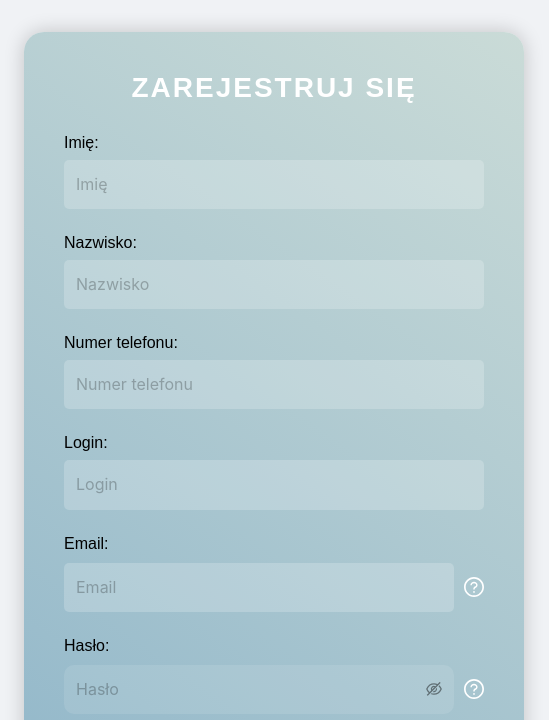
Test: Register Component › displays an error when the email format is incorrect
This screenshot has width=549, height=720.
Type "Jan" into the field labelled "Imię:".
click(274, 185); type("Jan")  # box [64,160,484,209]
Type "Kowalski" into the field labelled "Nazwisko:".
click(274, 285); type("Kowalski")  # box [64,260,484,309]
Type "123456789" into the field labelled "Numer telefonu:".
click(274, 385); type("123456789")  # box [64,360,484,409]
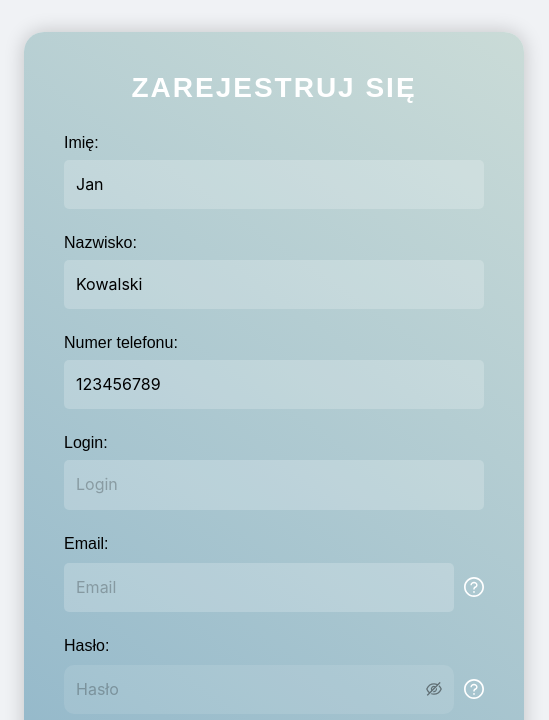
Type "jkowalski" into the field labelled "Login:".
click(274, 485); type("jkowalski")  # box [64,460,484,510]
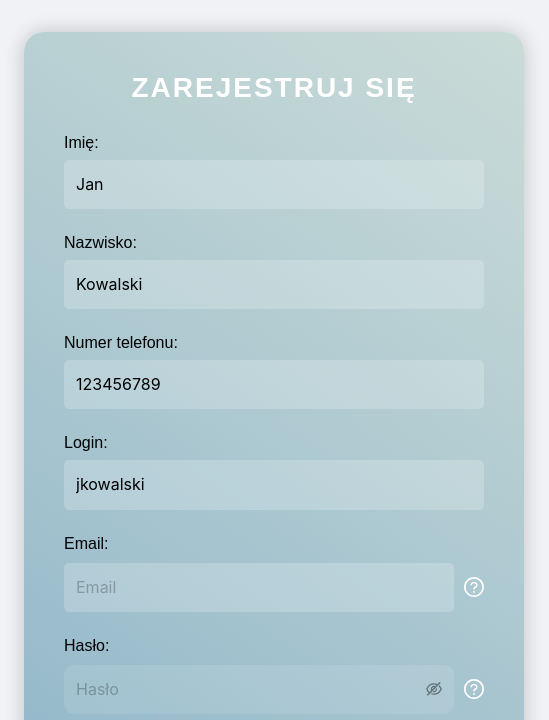
Type "invalidemail" into the field labelled "Email:".
click(259, 587); type("invalidemail")  # box [64,563,454,612]
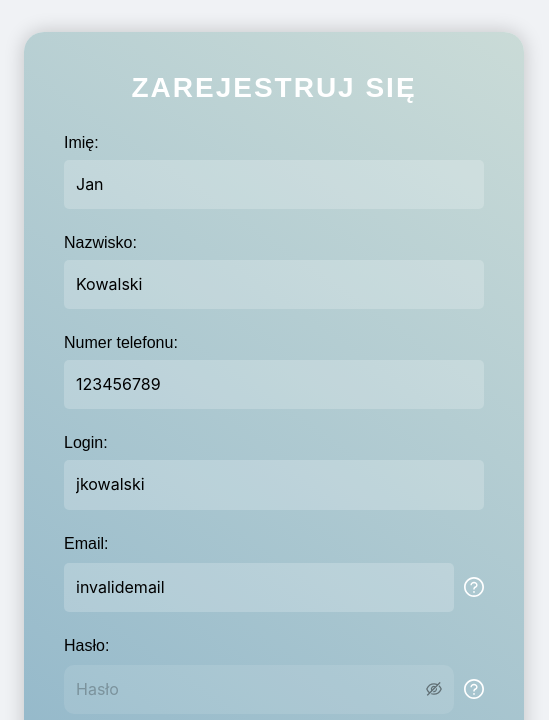
Type "Password123!" into the password field labelled "Hasło:".
click(249, 689); type("Password123!")  # box [76,677,422,702]
(page scrolled)
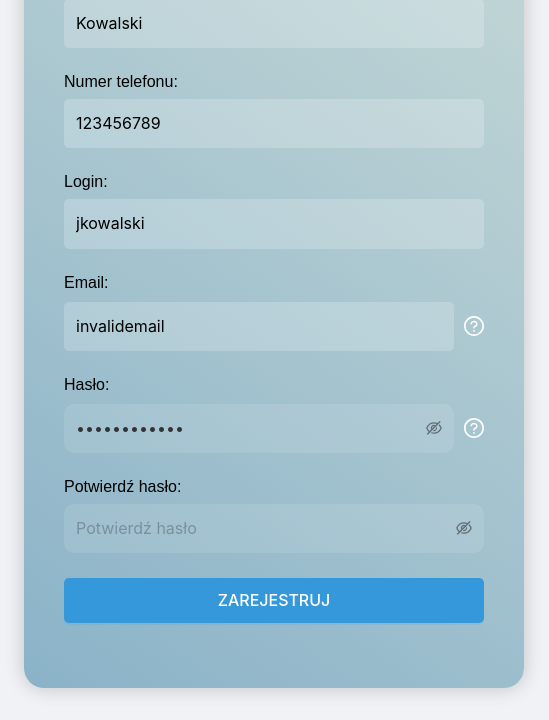
Type "Password123!" into the password field labelled "Potwierdź hasło:".
click(264, 528); type("Password123!")  # box [76,516,452,541]
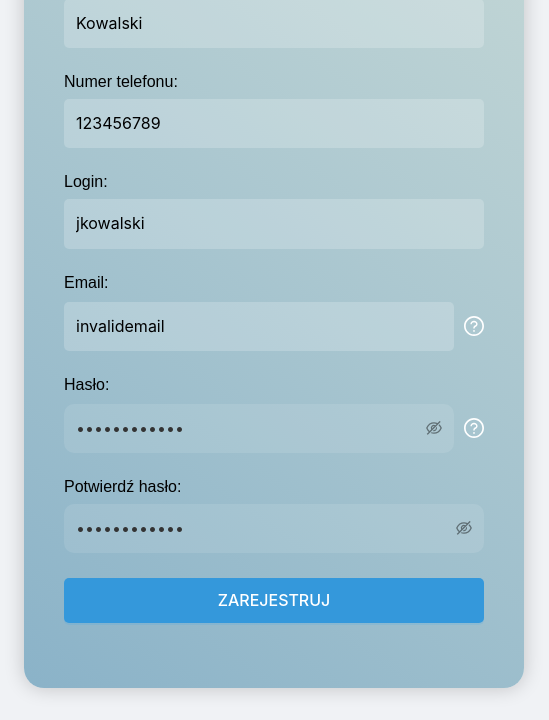
Click the button "Zarejestruj".
click(274, 600)  # box [64,578,484,623]
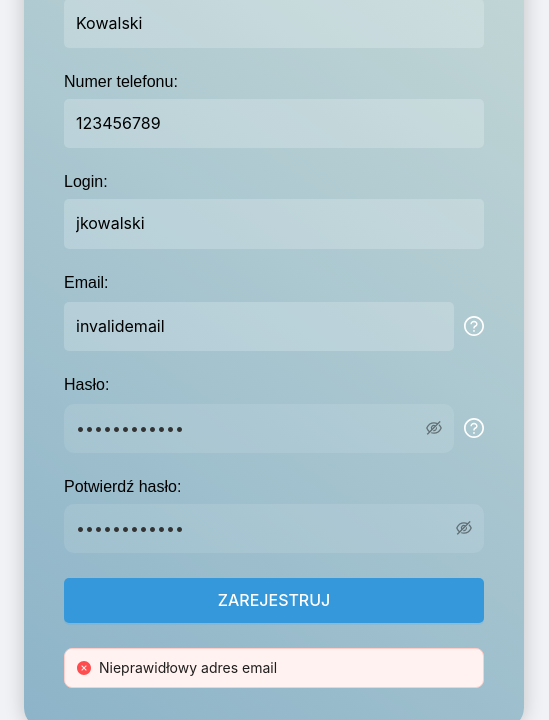
Check: the text "Nieprawidłowy adres email" is shown, box [99,659,277,676]
